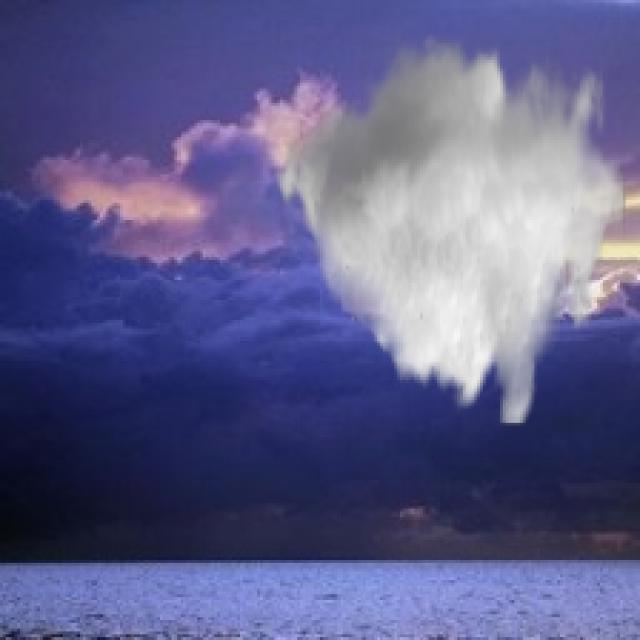smoke: (268, 34, 626, 426)
